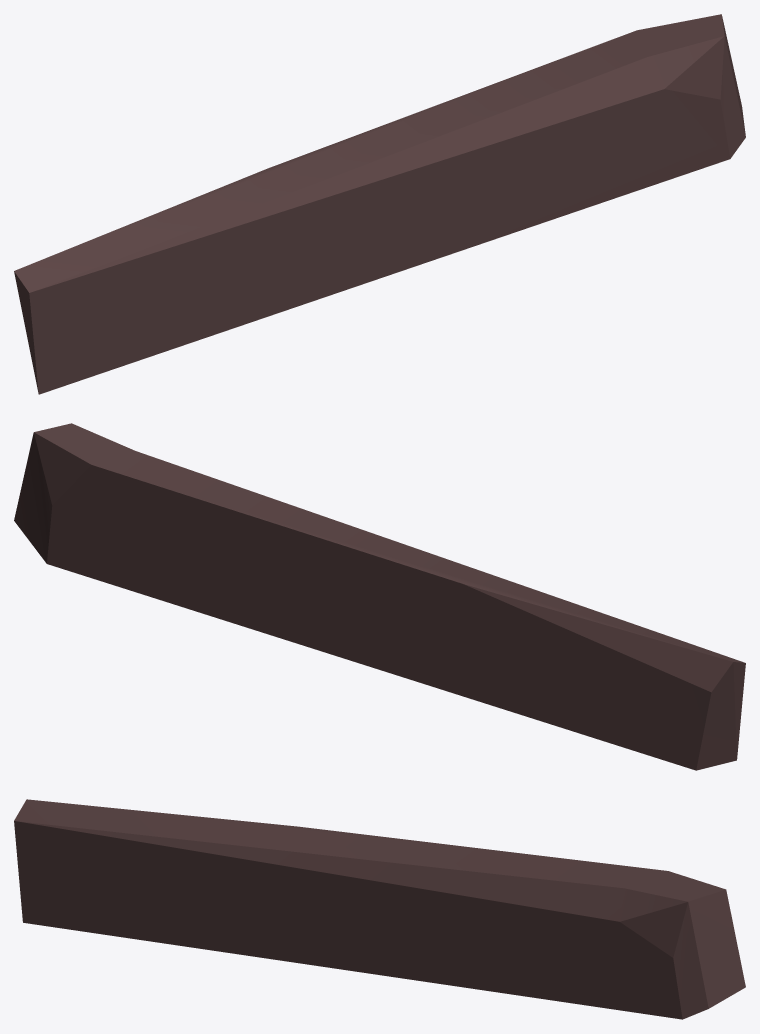
Rendered from prop_58.FBX.
3 views of the same model, one above another, from view 1: azimuth 30°, elevation 25°; view 2: azimuth 150°, elevation 25°; view 3: azimuth 330°, elevation 25° (orthographic). The views are drawn at different scales.
Parts seen in each view (by area): view 1: prop_58; view 2: prop_58; view 3: prop_58.
Part boxes in pixels (x1,y1,x2,y2): prop_58: (14,14,745,394); prop_58: (14,423,745,770); prop_58: (14,799,745,1019).
Size of the model in its own units: 35.03 by 8.54 by 3.3.
